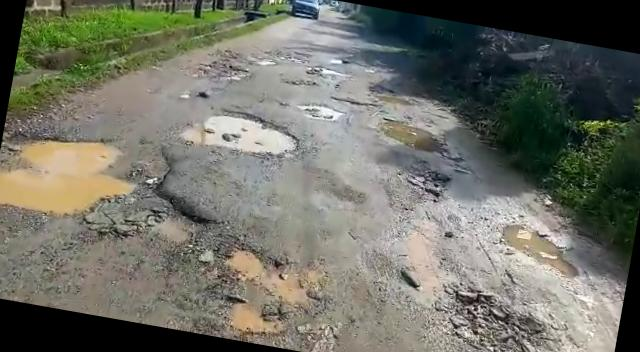pothole: (0, 117, 228, 252), (179, 235, 341, 351), (429, 281, 561, 352), (172, 99, 312, 164), (494, 220, 586, 280), (374, 117, 452, 156), (394, 156, 456, 205), (186, 56, 252, 85), (289, 96, 344, 120), (326, 93, 381, 110), (307, 62, 348, 80)
